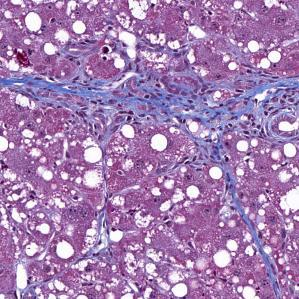fibrosis: (61, 63, 206, 129), (218, 78, 299, 141)
